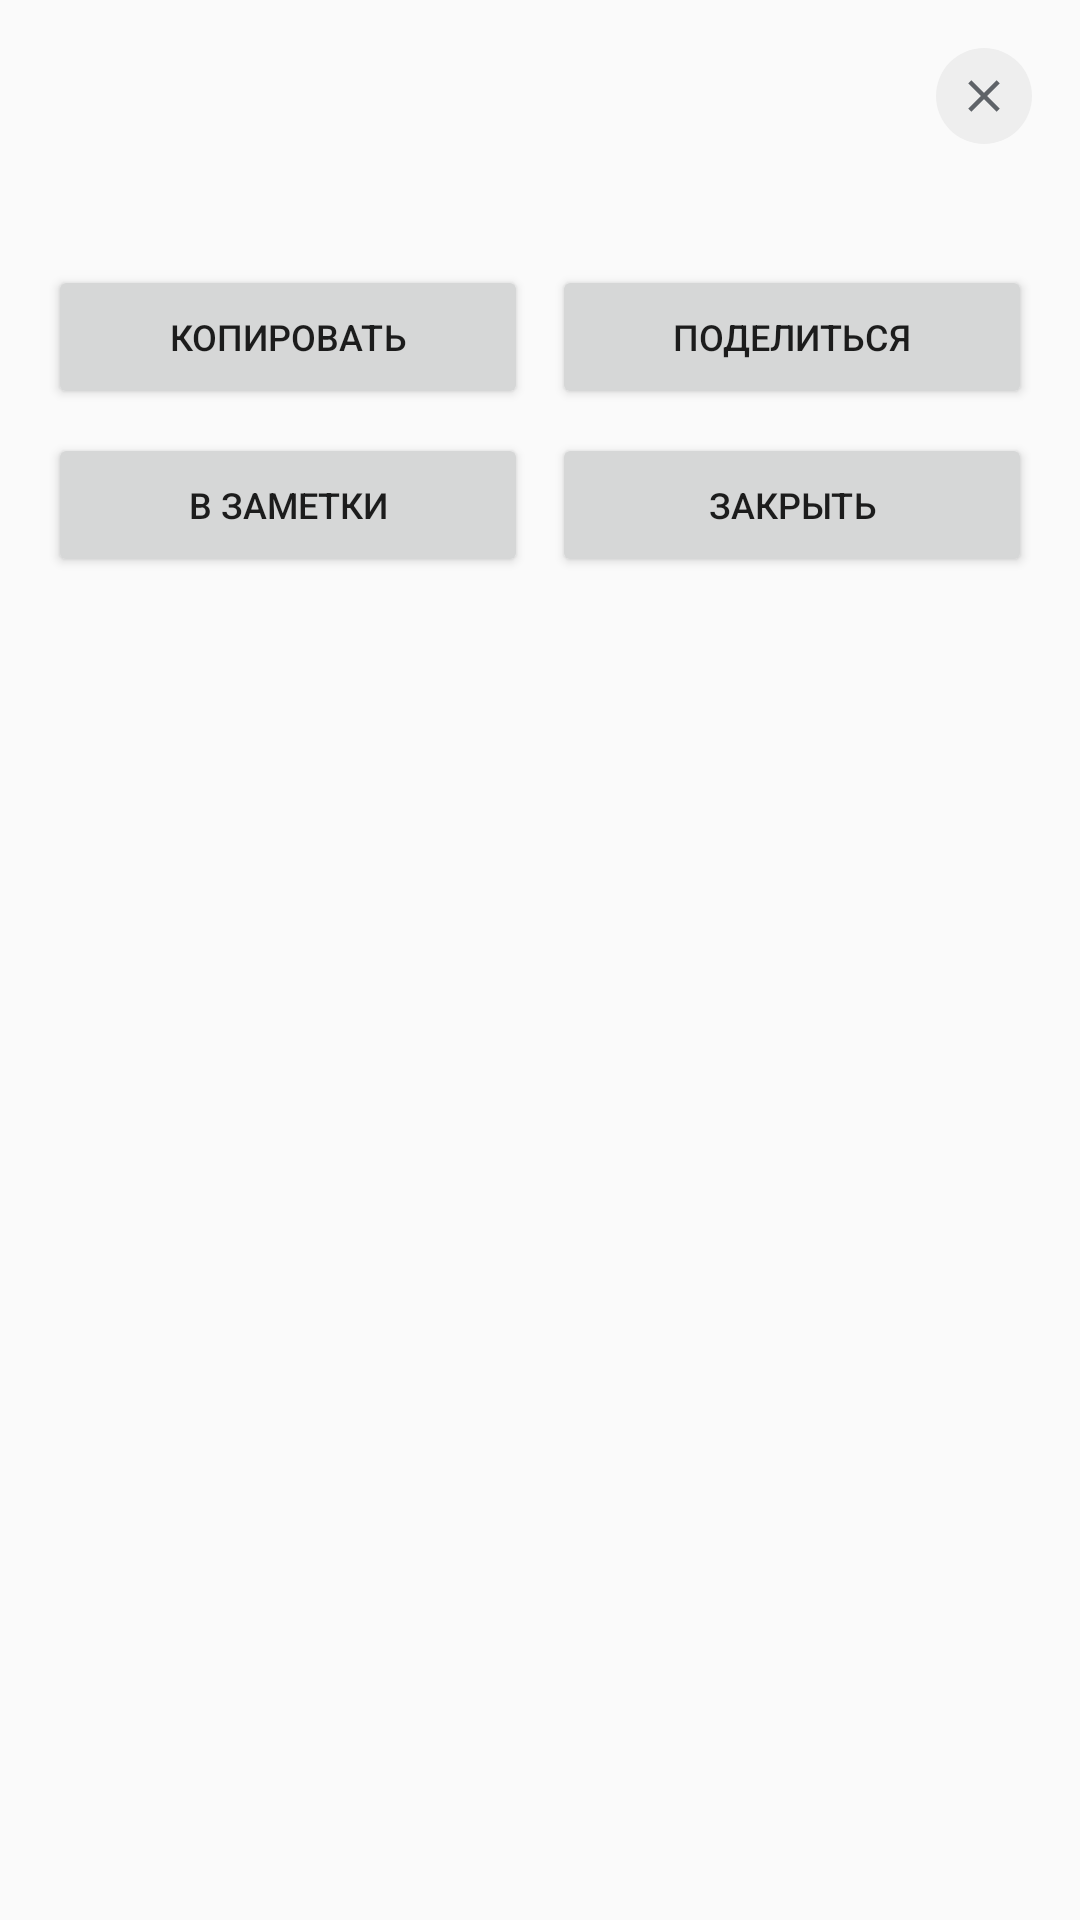

Point at icon controls on the screen. Image size 1080 × 1920, points as point (x, y).
Выключить: point (984, 96)
